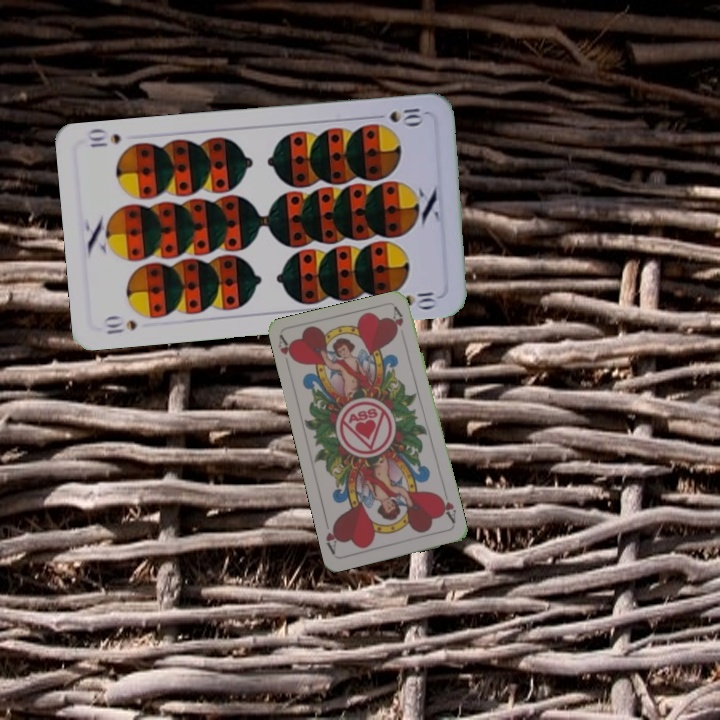HA: (434, 487, 459, 526), (274, 333, 298, 373)
S10: (369, 103, 426, 128), (100, 312, 140, 337)
